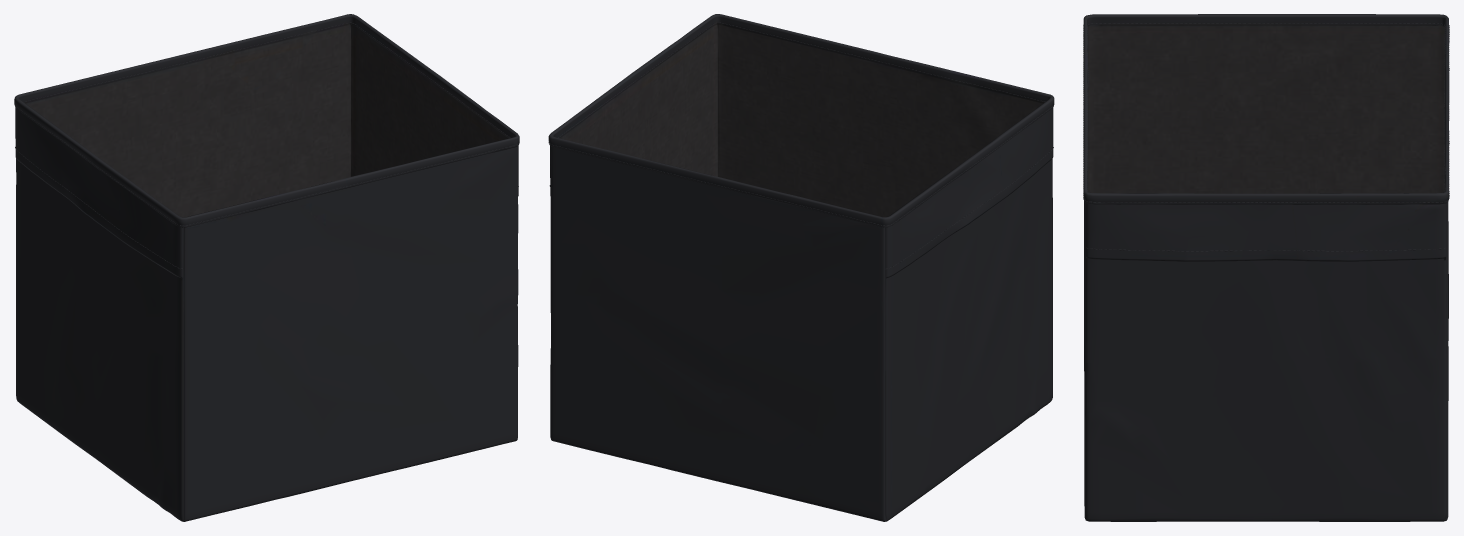
3 renders of one model, left to right at view 1: azimuth 30°, elevation 25°; view 2: azimuth 150°, elevation 25°; view 3: azimuth 270°, elevation 25°, orthographic. The views are drawn at different scales.
Parts seen in each view (by area): view 1: 1; view 2: 1; view 3: 1.
Boxes of the visible parts, <box> form: 1: <box>14,14,519,521</box>; 1: <box>548,14,1054,521</box>; 1: <box>1083,14,1449,521</box>.
Bounding box in the file's own units: 0.3904 × 0.3286 × 0.3271.
Materials: 2 (2 with a texture image).
